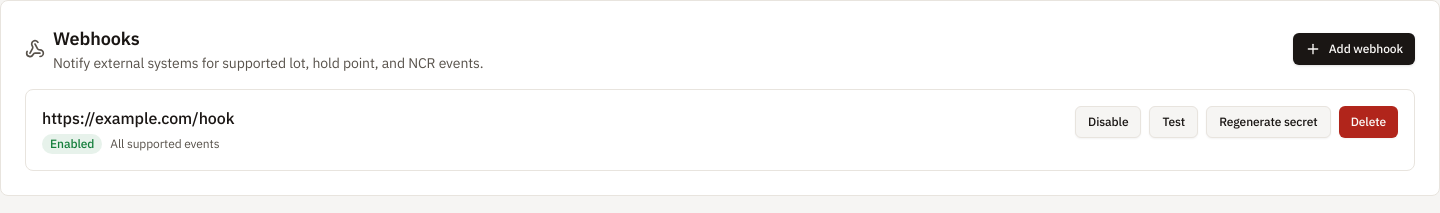
Test case: CompanyWebhooksSection › toggles a webhook enabled state via PATCH
The image size is (1440, 213).
Expected: the text "https://example.com/hook" is shown, [42,108,234,128]
Click the button "Disable": (1108, 122) [1075,106,1142,138]
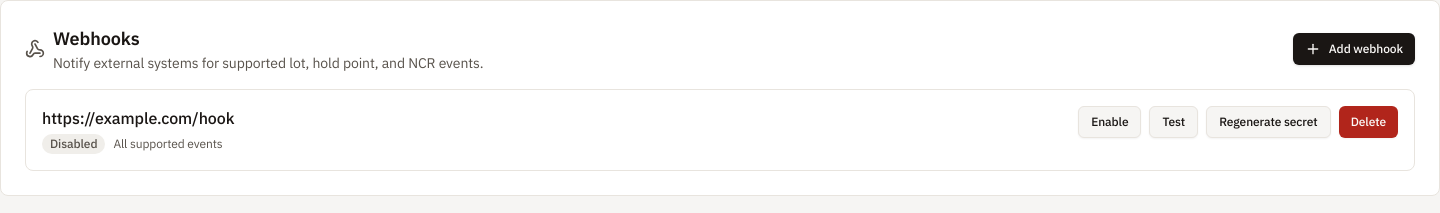
Expected: the button "Enable" is shown, [1078,106,1142,138]
